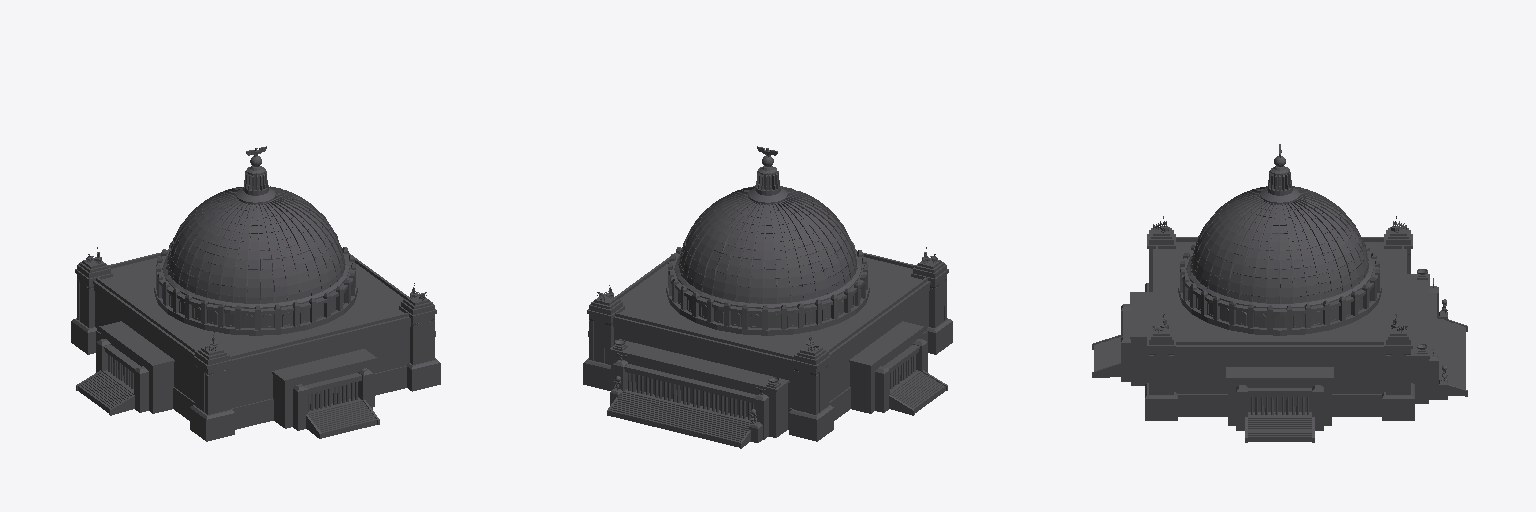
File: Stag.obj
The picture shows the model from 3 angles: view 1: azimuth 30°, elevation 25°; view 2: azimuth 150°, elevation 25°; view 3: azimuth 270°, elevation 25°; orthographic projection.
Parts seen in each view (by area): view 1: Volkshalle1; view 2: Volkshalle1; view 3: Volkshalle1.
Part boxes in pixels (bbox=[...]): Volkshalle1: bbox=[71, 146, 440, 441]; Volkshalle1: bbox=[583, 146, 952, 448]; Volkshalle1: bbox=[1092, 144, 1467, 442].
Size of the model in its own units: 63.8 by 40.33 by 63.73.